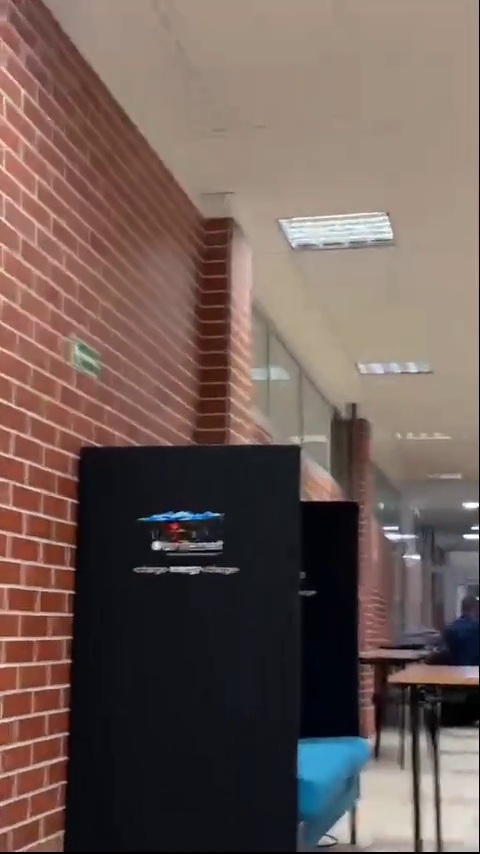drone: (136, 508, 231, 542)
no vest: (445, 600, 480, 666)
